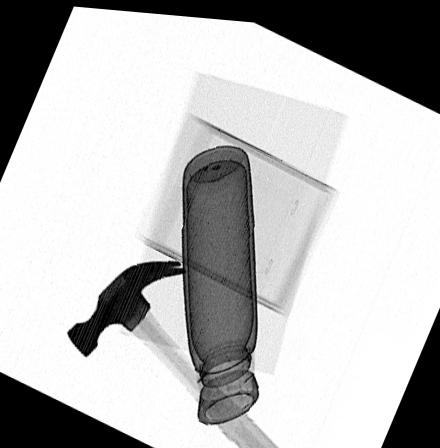Hammer: (66, 255, 283, 448)
